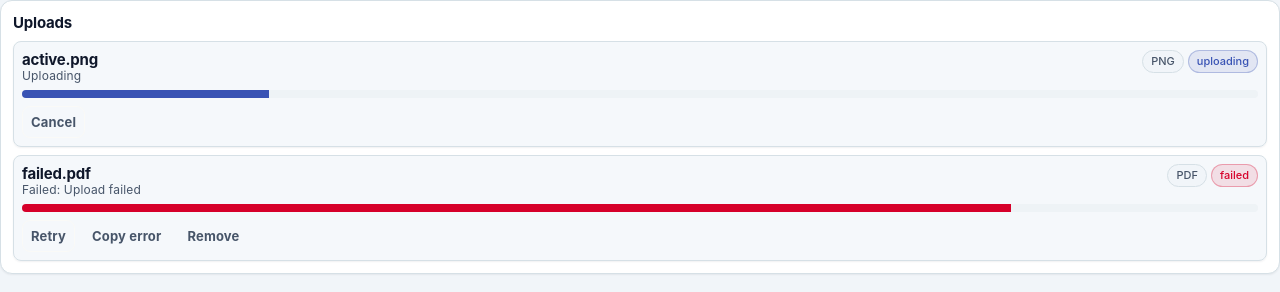
Test: UploadTray › handles retry transition
This screenshot has width=1280, height=292.
Click the button "Retry".
click(48, 236)  # box x1=22 y1=220 x2=75 y2=252
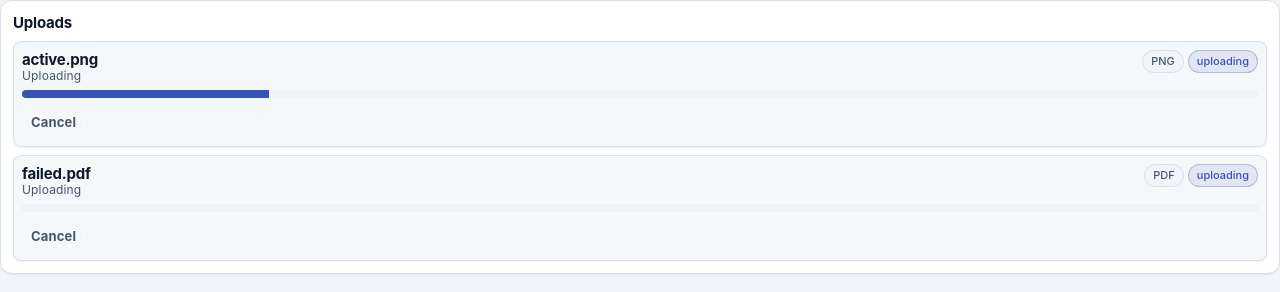
Expected: the button "Cancel" below "active.png" is shown, x1=22 y1=106 x2=85 y2=138
Now the button "Retry" is gone
